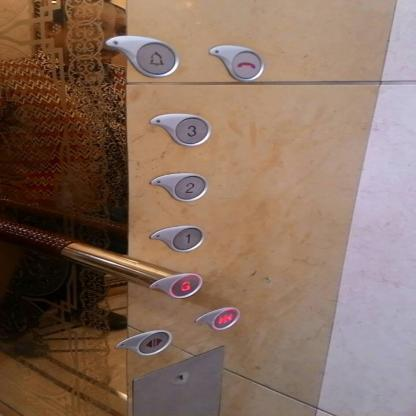1: (148, 226, 204, 252)
2: (150, 172, 207, 201)
3: (149, 113, 211, 146)
G: (148, 272, 203, 298)
alarm: (105, 35, 176, 77)
call: (207, 44, 264, 83)
close: (195, 307, 239, 330)
open: (114, 330, 172, 354)
